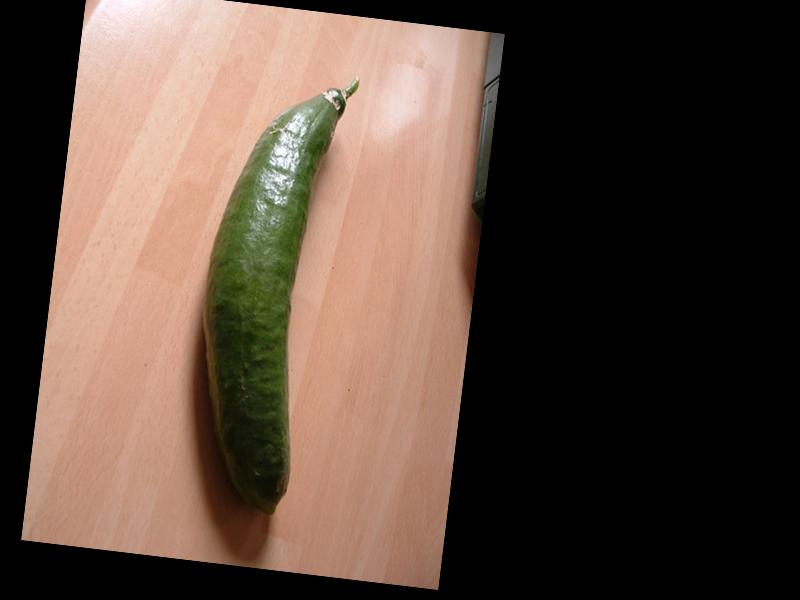Cucumber: (177, 63, 359, 521)
